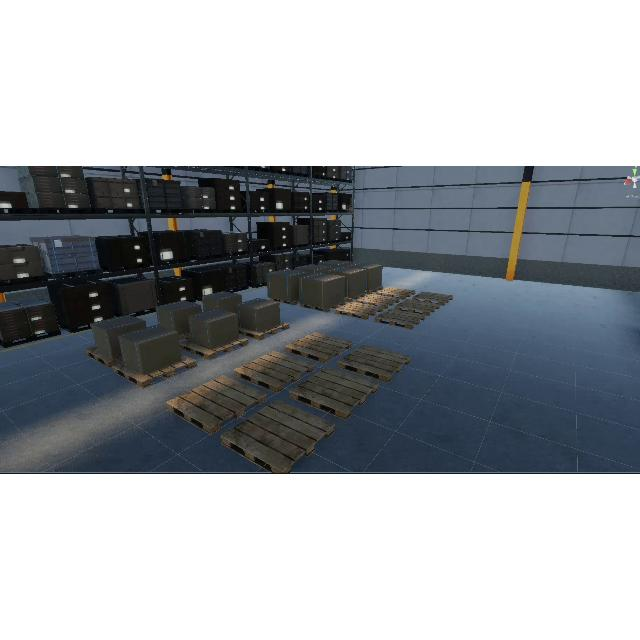wooden_pallet: (221, 400, 336, 474), (165, 375, 268, 436), (289, 367, 380, 421), (234, 351, 315, 394), (112, 355, 197, 389), (337, 345, 411, 383), (285, 332, 353, 364), (179, 336, 248, 360), (238, 321, 289, 341)
